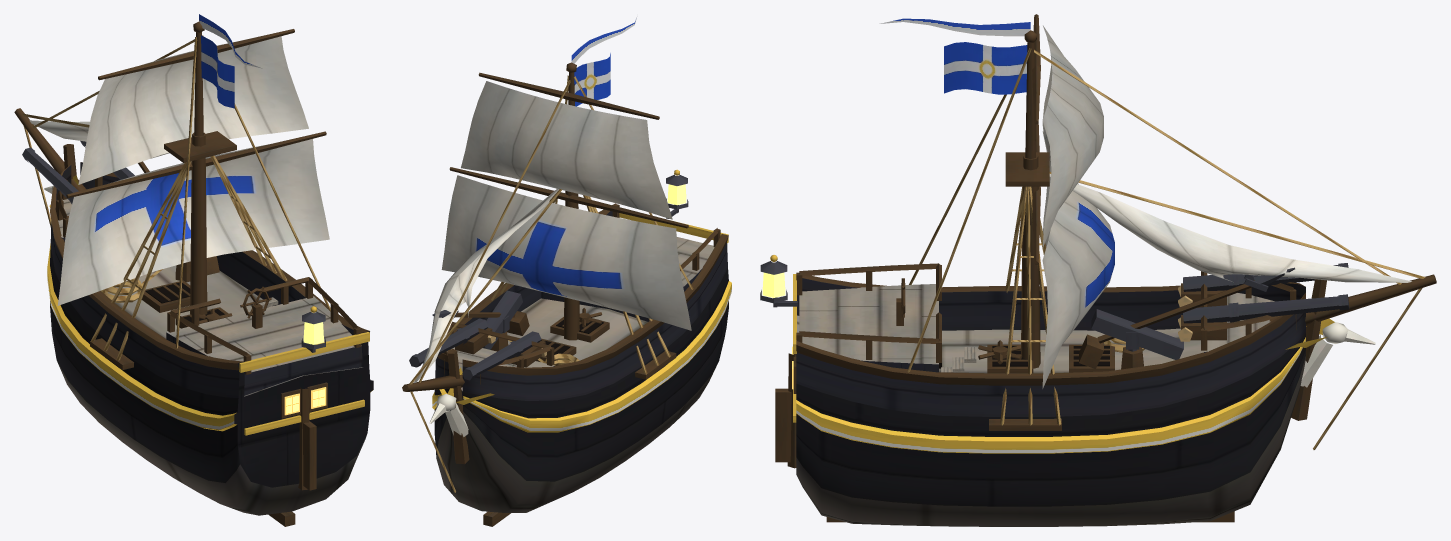
The model's file is enemy_chaser.glb.
The picture shows the model from 3 angles, left to right: view 1: azimuth 30°, elevation 25°; view 2: azimuth 150°, elevation 25°; view 3: azimuth 270°, elevation 25°; orthographic projection. The views are drawn at different scales.
Parts seen in each view (by area): view 1: Hull, Sail0_0, Sail0_1, Rigging, Flag, Guns0, Jib; view 2: Hull, Sail0_0, Sail0_1, Rigging, Guns0, Jib, Flag; view 3: Hull, Rigging, Guns0, Sail0_0, Jib, Sail0_1, Flag.
Boxes of the visible parts, left/top/right/bottom form: Hull: left=44, top=144, right=373, bottom=526; Sail0_0: left=57, top=139, right=329, bottom=305; Sail0_1: left=78, top=36, right=308, bottom=184; Rigging: left=14, top=21, right=330, bottom=360; Flag: left=199, top=14, right=262, bottom=108; Guns0: left=22, top=141, right=219, bottom=275; Jib: left=29, top=120, right=169, bottom=158; Hull: left=429, top=169, right=731, bottom=526; Sail0_0: left=441, top=175, right=691, bottom=330; Sail0_1: left=461, top=81, right=672, bottom=219; Rigging: left=402, top=62, right=693, bottom=492; Guns0: left=409, top=290, right=546, bottom=380; Jib: left=414, top=188, right=559, bottom=382; Flag: left=571, top=16, right=637, bottom=106; Hull: left=760, top=255, right=1375, bottom=526; Rigging: left=907, top=14, right=1436, bottom=449; Guns0: left=1079, top=263, right=1349, bottom=368; Sail0_0: left=1042, top=131, right=1114, bottom=388; Jib: left=1049, top=174, right=1411, bottom=282; Sail0_1: left=1042, top=25, right=1103, bottom=247; Flag: left=879, top=18, right=1030, bottom=94.
Size of the model in its own units: 1.34 by 2.1 by 2.59.
8 materials, 8 textured.
